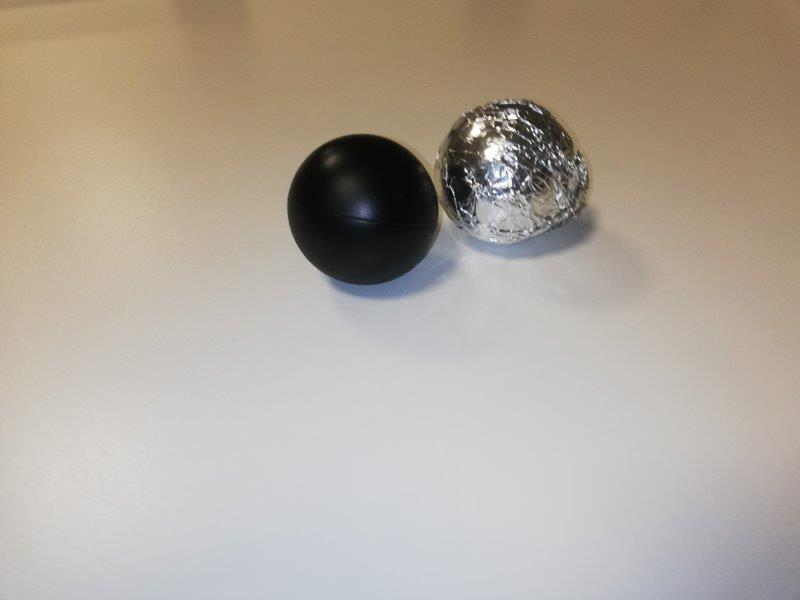bianca: (433, 101, 591, 246)
nera: (287, 135, 438, 285)
